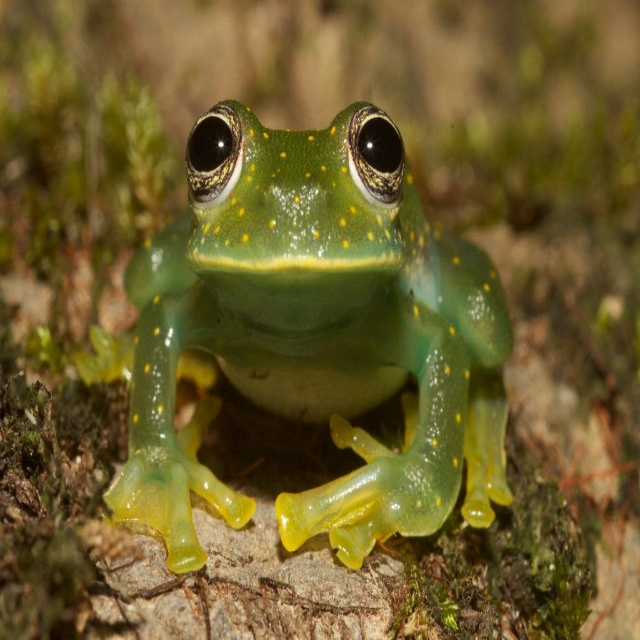Frog: (73, 100, 515, 572)
